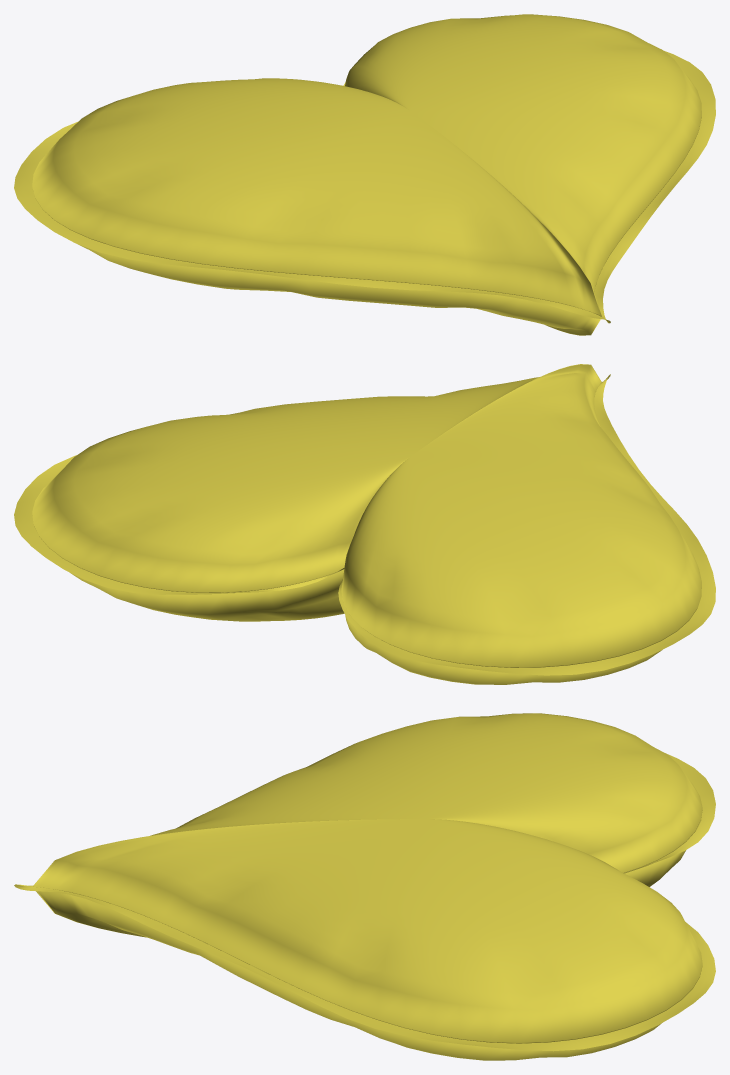
The model's file is heart.glb.
3 views of the same model, one above another, from view 1: azimuth 30°, elevation 25°; view 2: azimuth 150°, elevation 25°; view 3: azimuth 270°, elevation 25° (orthographic). The views are drawn at different scales.
Visible parts, largest first — view 1: Heart, Heart weld; view 2: Heart, Heart weld; view 3: Heart, Heart weld.
Boxes of the visible parts, x1,y1,x2,y2 form: Heart: (32,14,701,335); Heart weld: (14,51,715,323); Heart: (32,364,701,684); Heart weld: (14,374,715,675); Heart: (33,713,702,1060); Heart weld: (14,753,715,1051).
Size of the model in its own units: 1.74 by 0.336 by 1.57.
